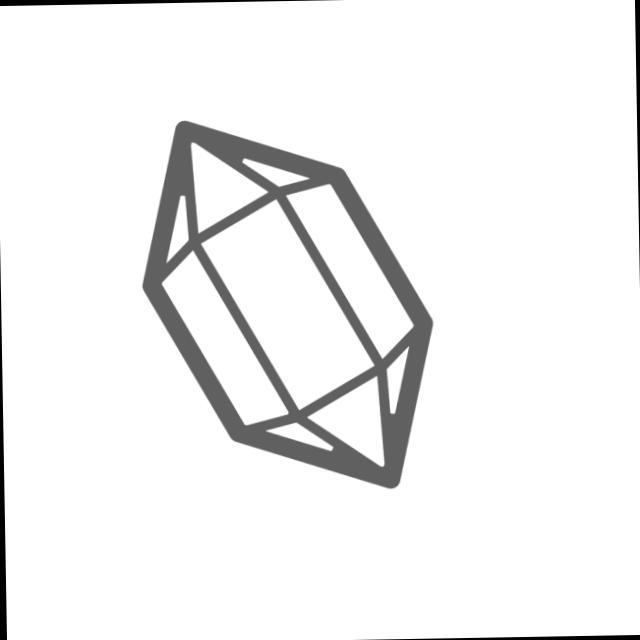crystal: (129, 111, 444, 500)
